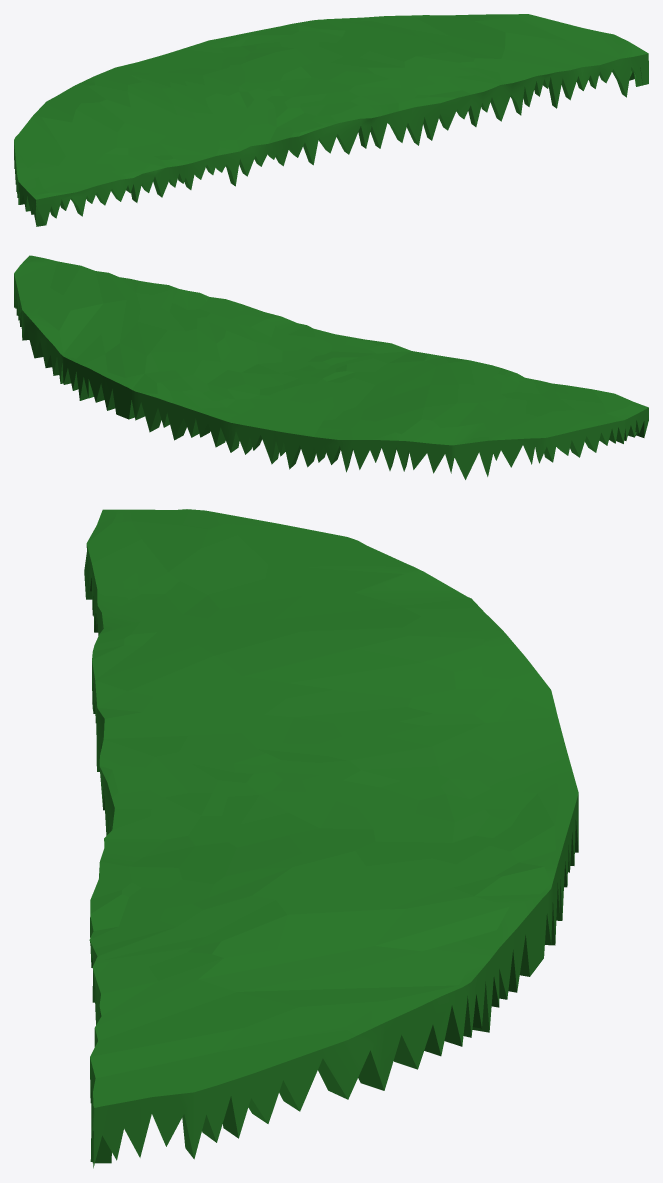
The model's file is grass_layer_arc_giant_bool.fbx.
3 renders of one model, top to bottom at view 1: azimuth 30°, elevation 25°; view 2: azimuth 150°, elevation 25°; view 3: azimuth 270°, elevation 25°, orthographic. The views are drawn at different scales.
Visible parts, largest first — view 1: grass_layer_arc_giant_bool; view 2: grass_layer_arc_giant_bool; view 3: grass_layer_arc_giant_bool.
Part boxes in pixels (x1,y1,x2,y2): grass_layer_arc_giant_bool: [14, 14, 648, 226]; grass_layer_arc_giant_bool: [14, 255, 648, 479]; grass_layer_arc_giant_bool: [84, 509, 578, 1168].
Size of the model in its own units: 3241 by 242 by 1137.
